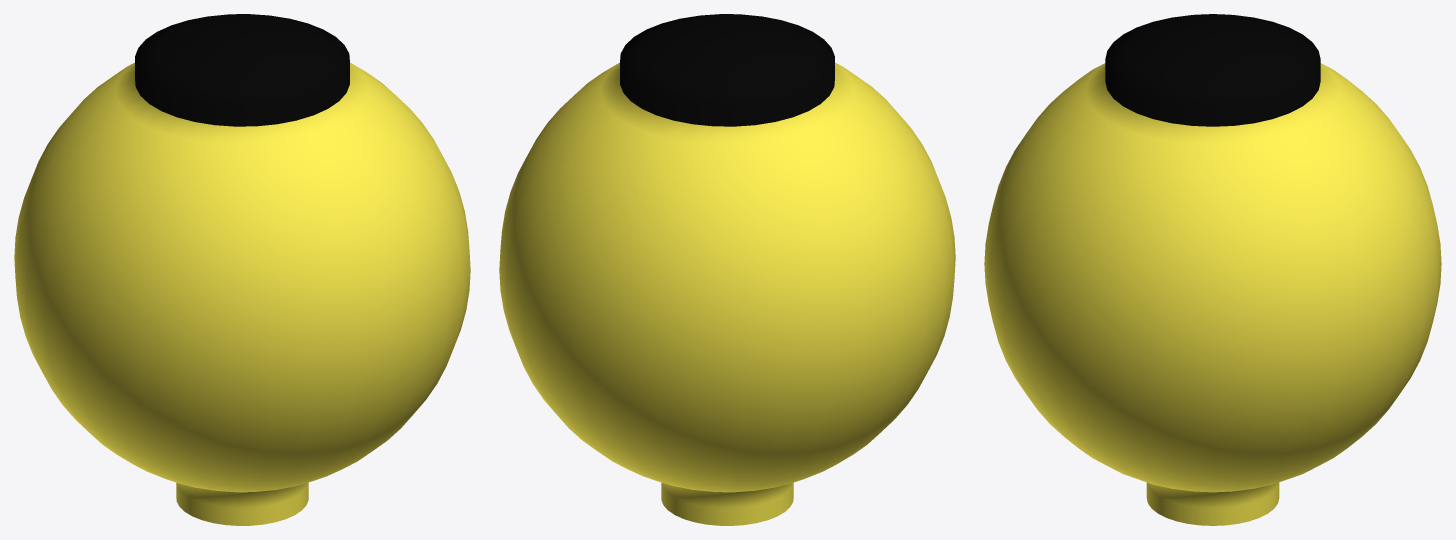
The model's file is KoroSenseri.fbx.
3 renders of one model, left to right at view 1: azimuth 30°, elevation 25°; view 2: azimuth 150°, elevation 25°; view 3: azimuth 270°, elevation 25°, orthographic.
Parts seen in each view (by area): view 1: KoroSenseiHead; view 2: KoroSenseiHead; view 3: KoroSenseiHead.
Boxes of the visible parts, x1=… form: KoroSenseiHead: x1=14, y1=14, x2=470, y2=525; KoroSenseiHead: x1=499, y1=14, x2=955, y2=525; KoroSenseiHead: x1=984, y1=14, x2=1441, y2=525.
Bounding box in the file's own units: 50 × 55.84 × 50.
